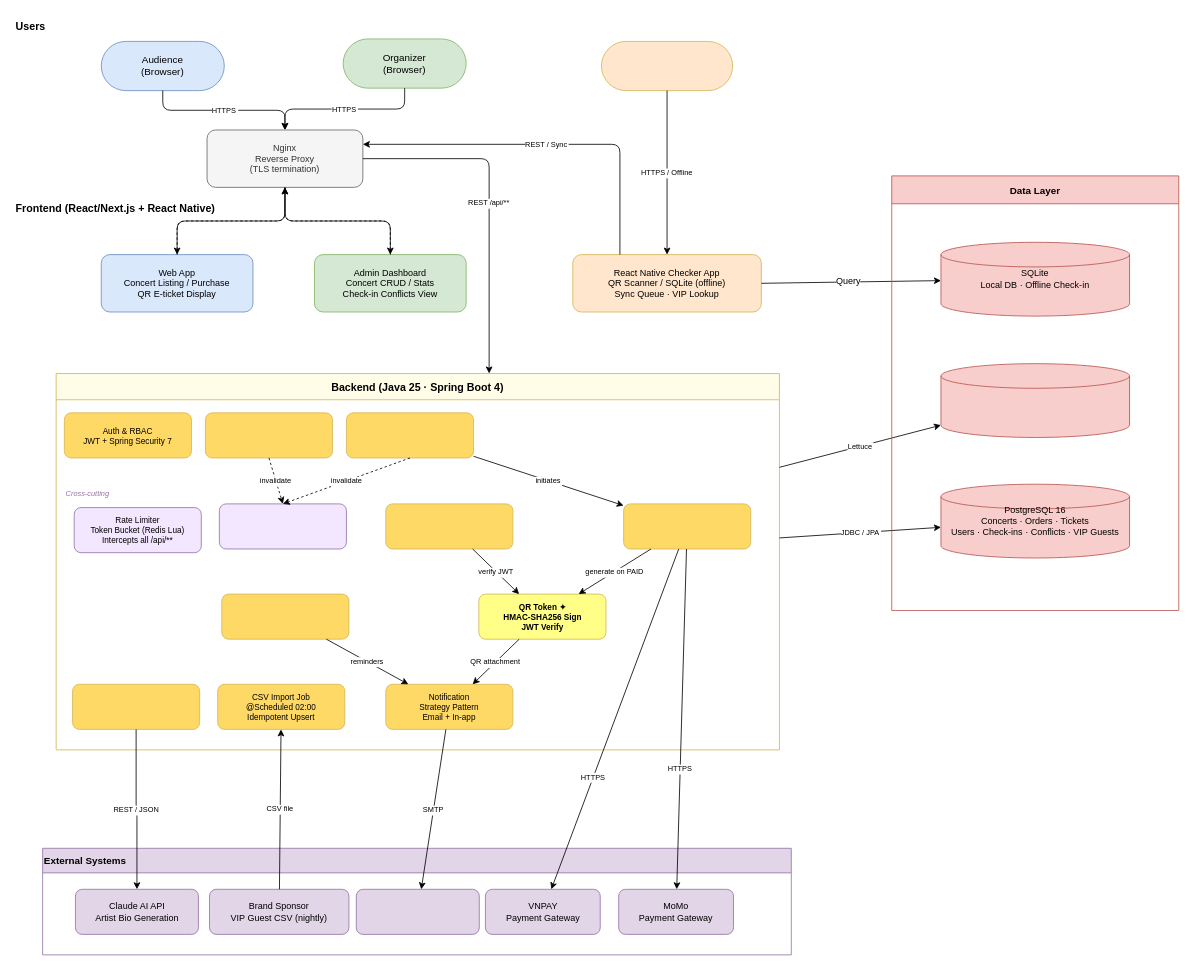
Image size: 1193x969. Some labels were removed from this diagram. The centre of each missing label's shape, as x and y in pixels:
"AI Bio Module PDFBox + Claude API @Async" belongs at point 136,706.
"Background Scheduler Order Expiry 24h Reminders" belongs at point 285,616.
"Cache Module ✦ Cache-aside (Redis) Concert / Ticket TTL" belongs at point 282,526.
"Check-in Module Online Scan (sync) Batch Sync + Conflicts" belongs at point 449,526.
"Checker Staff (Mobile App)" belongs at point 667,66.
"Concert Module CRUD + SVG Seat Map" belongs at point 269,435.
"Email SMTP Transactional Email" belongs at point 417,911.
"Payment Module Circuit Breaker Idempotency Key" belongs at point 687,526.
"Redis 7 Cache-aside · Rate Limiting Idempotency Keys · Pub/Sub" belongs at point 1035,400.
"Ticket Purchase SELECT FOR UPDATE Redis Counter" belongs at point 410,435.
